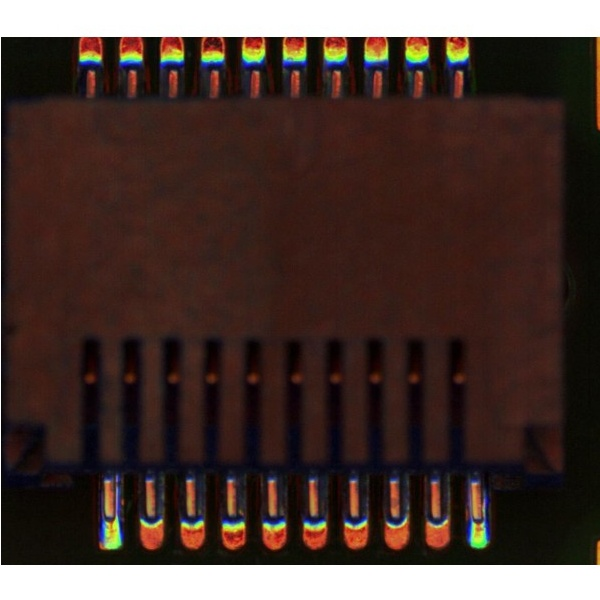Bad_qiaojiao: (113, 473, 121, 514), (481, 482, 486, 519)
